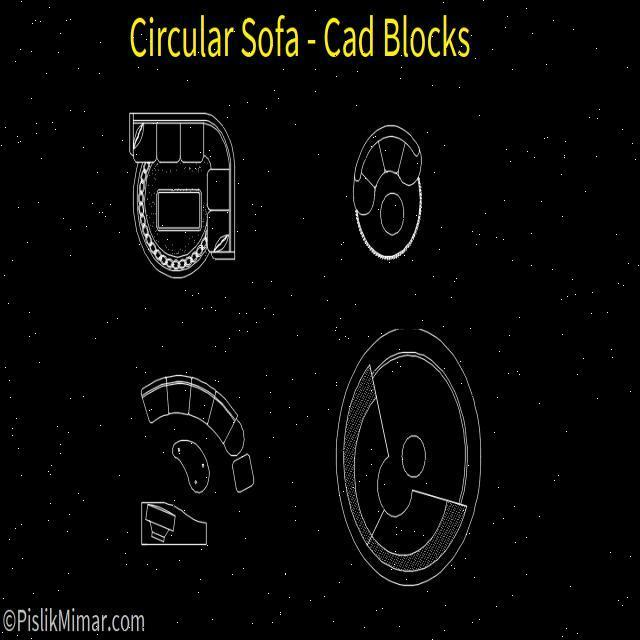Circle: (340, 319, 484, 585), (353, 125, 424, 266), (399, 432, 426, 480)
